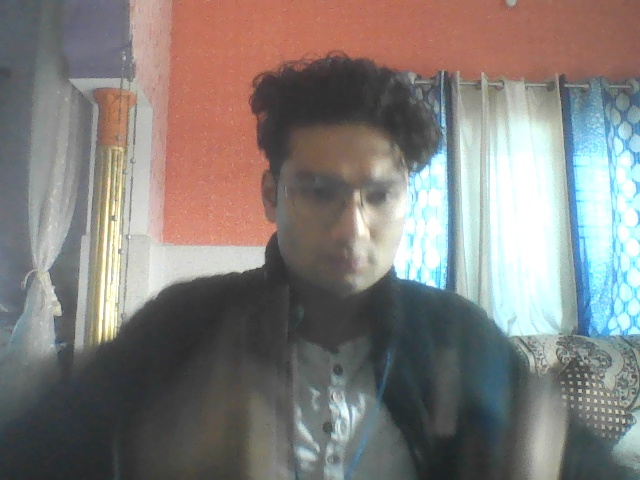real: (252, 59, 428, 308)
